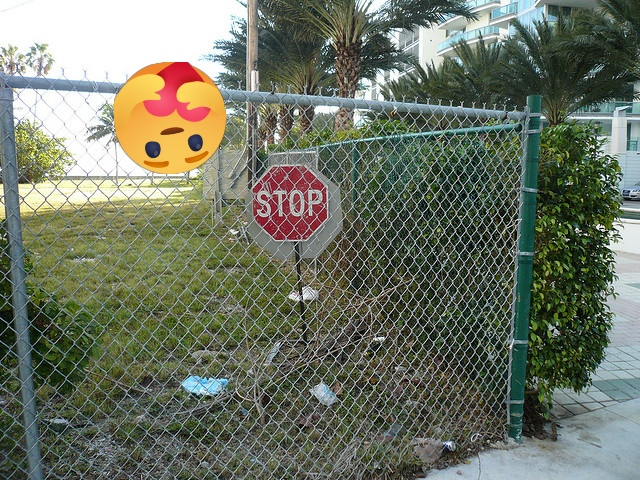care: (114, 62, 226, 174)
